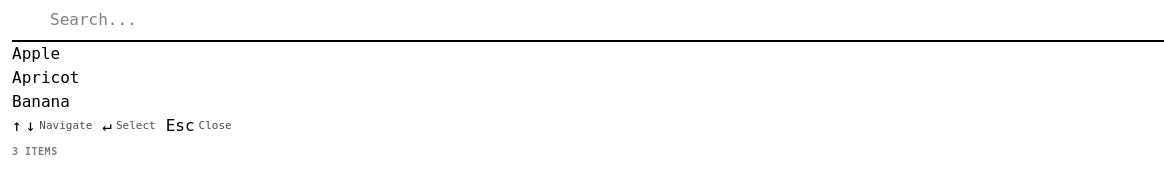
Test: Command Component › renders CommandFooter with navigation hints and visible item counter
Check: the text "Navigate" is shown, box [39,118,92,134]
Check: the text "Select" is shown, box [116,118,156,134]
Type "ban" into the dropdown. click: [155, 20]
box: [50,8,260,32]
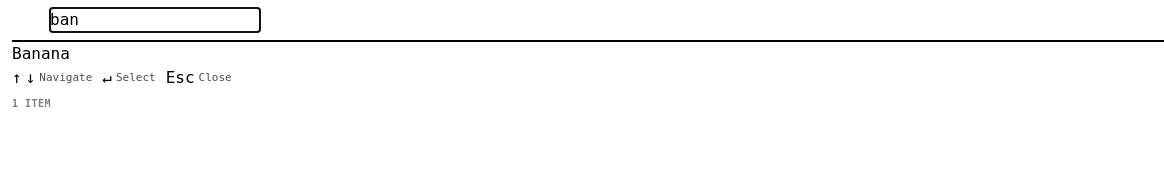
Check: the text "1 item" is shown, box [12,96,51,111]
